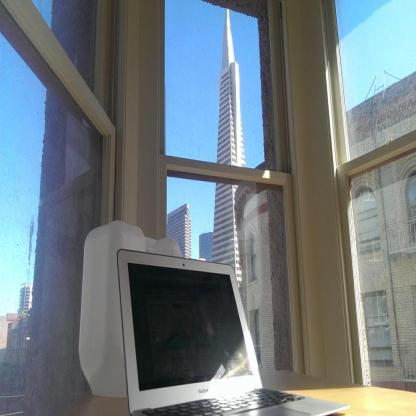board: (115, 244, 348, 415)
